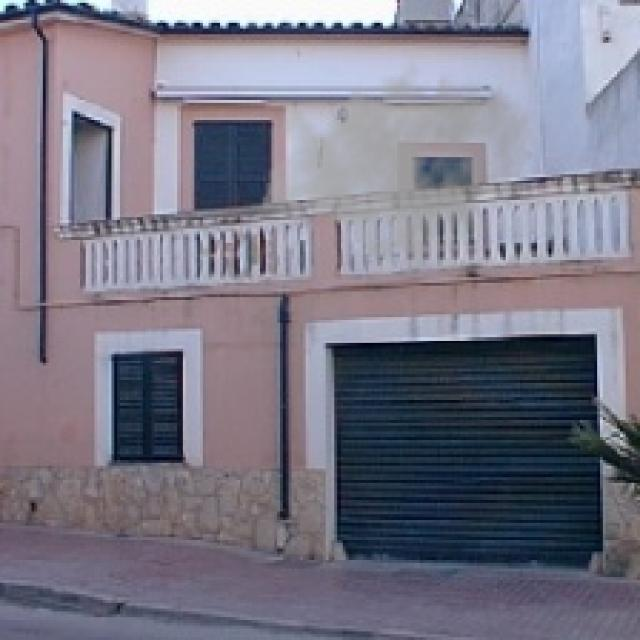smoke: (260, 52, 534, 274)
